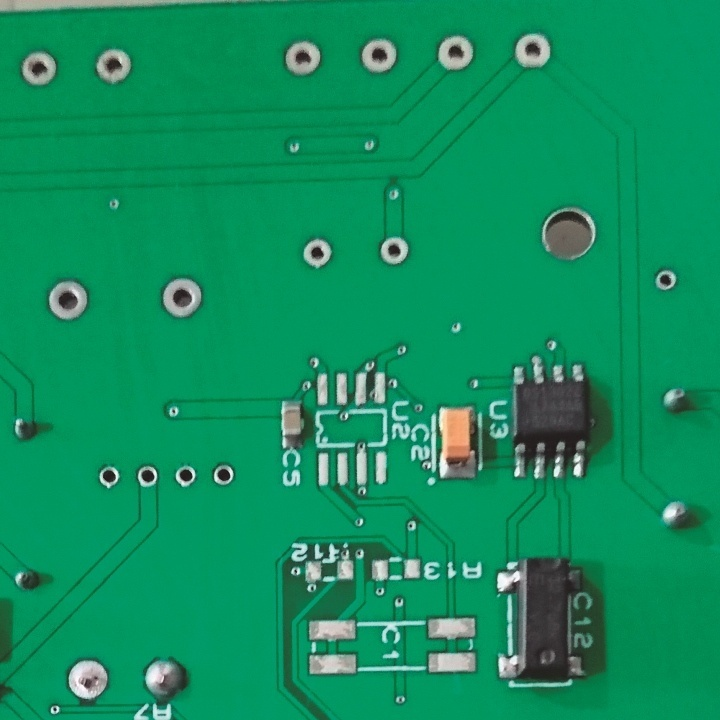F: (63, 655, 112, 703), (45, 278, 95, 323), (16, 46, 63, 91), (159, 274, 205, 319), (93, 44, 139, 88), (356, 35, 404, 76), (279, 36, 327, 76), (435, 33, 480, 74), (513, 31, 554, 71), (300, 237, 337, 269), (378, 235, 410, 267), (96, 463, 124, 491), (209, 462, 236, 489), (650, 268, 680, 292), (133, 464, 161, 489), (172, 464, 197, 489)
